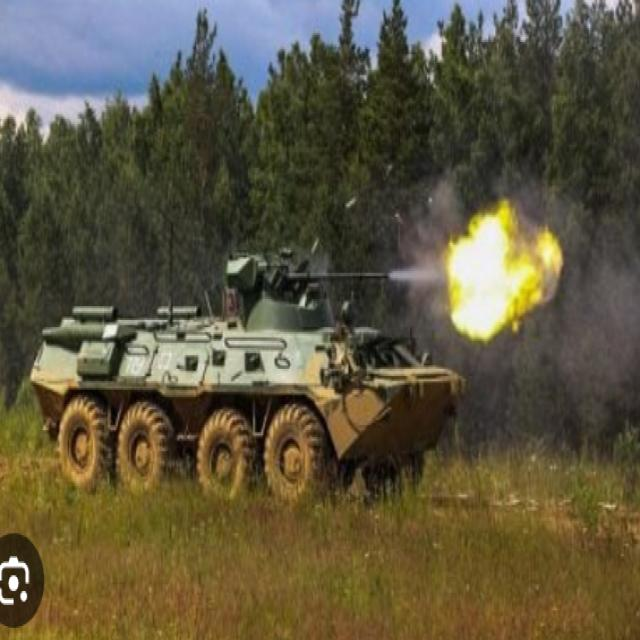MIL_APC: (43, 240, 467, 519)
